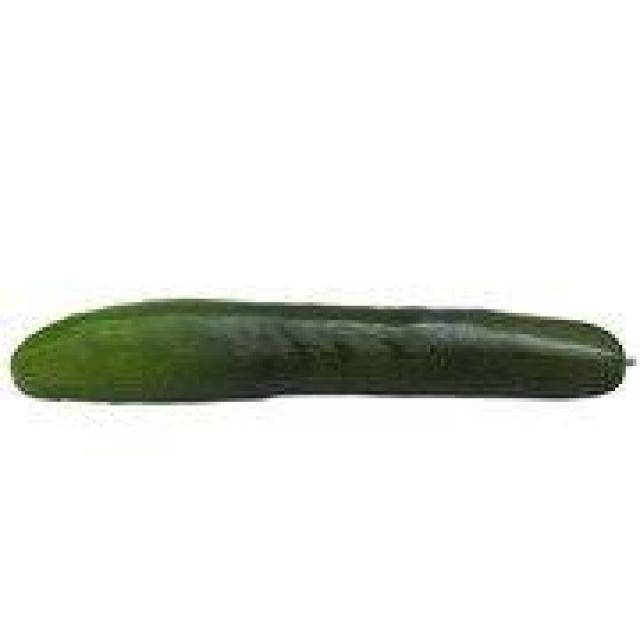organic waste: (3, 295, 630, 402)
